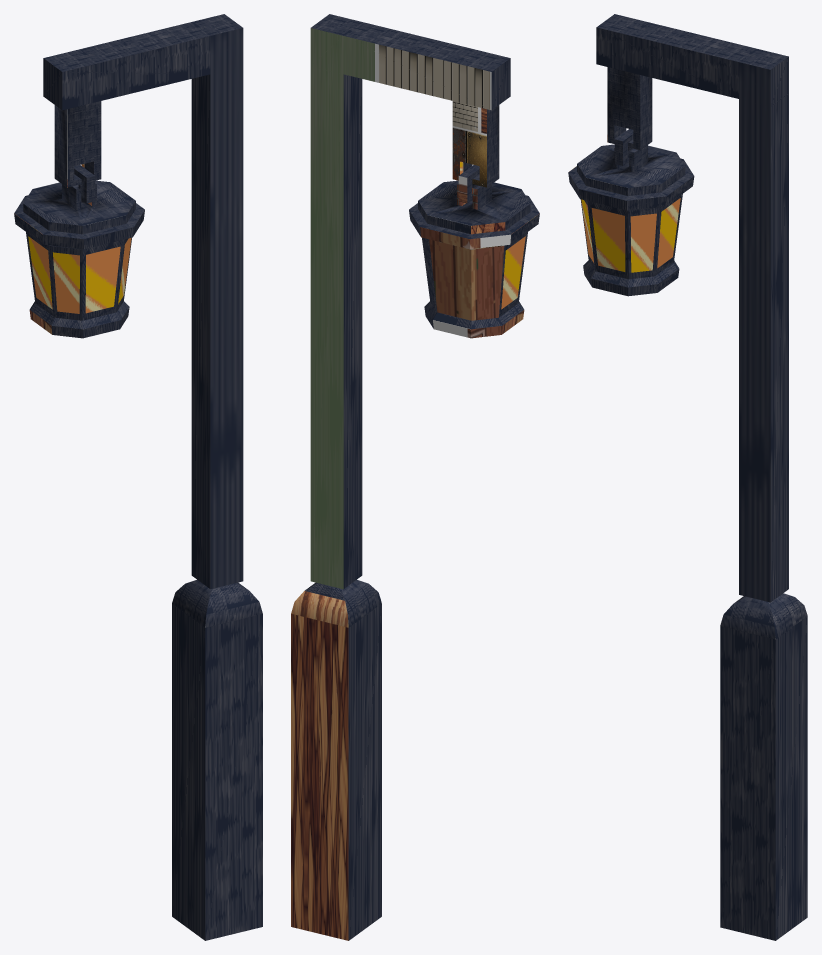
File: street lamp.fbx
The picture shows the model from 3 angles, left to right: view 1: azimuth 30°, elevation 25°; view 2: azimuth 150°, elevation 25°; view 3: azimuth 330°, elevation 25°; orthographic projection. The views are drawn at different scales.
Visible parts, largest first — view 1: pCube68; view 2: pCube68; view 3: pCube68.
Part boxes in pixels (<box>): pCube68: <box>14,14,262,940</box>; pCube68: <box>291,14,539,940</box>; pCube68: <box>568,14,807,940</box>.
Size of the model in its own units: 139 by 547 by 65.22.
